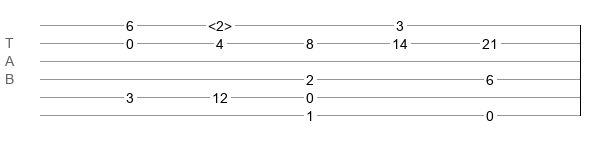0: (126, 36, 134, 46), (306, 90, 314, 100), (486, 108, 494, 118)
1: (306, 108, 314, 118)
12: (212, 90, 228, 100)
14: (392, 36, 408, 46)
2: (306, 72, 314, 82)
21: (482, 36, 498, 46)
3: (126, 90, 134, 100), (396, 18, 404, 28)
4: (216, 36, 224, 46)
6: (126, 18, 134, 28), (486, 72, 494, 82)
8: (306, 36, 314, 46)
harmonic: (208, 18, 232, 28)
